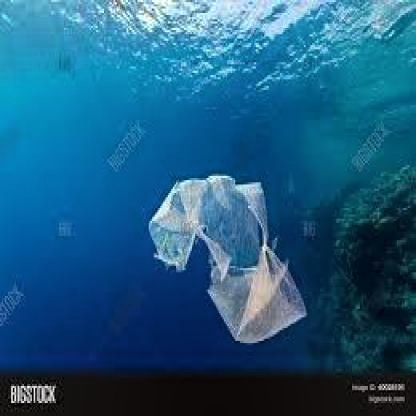pbag: (147, 174, 307, 345)
